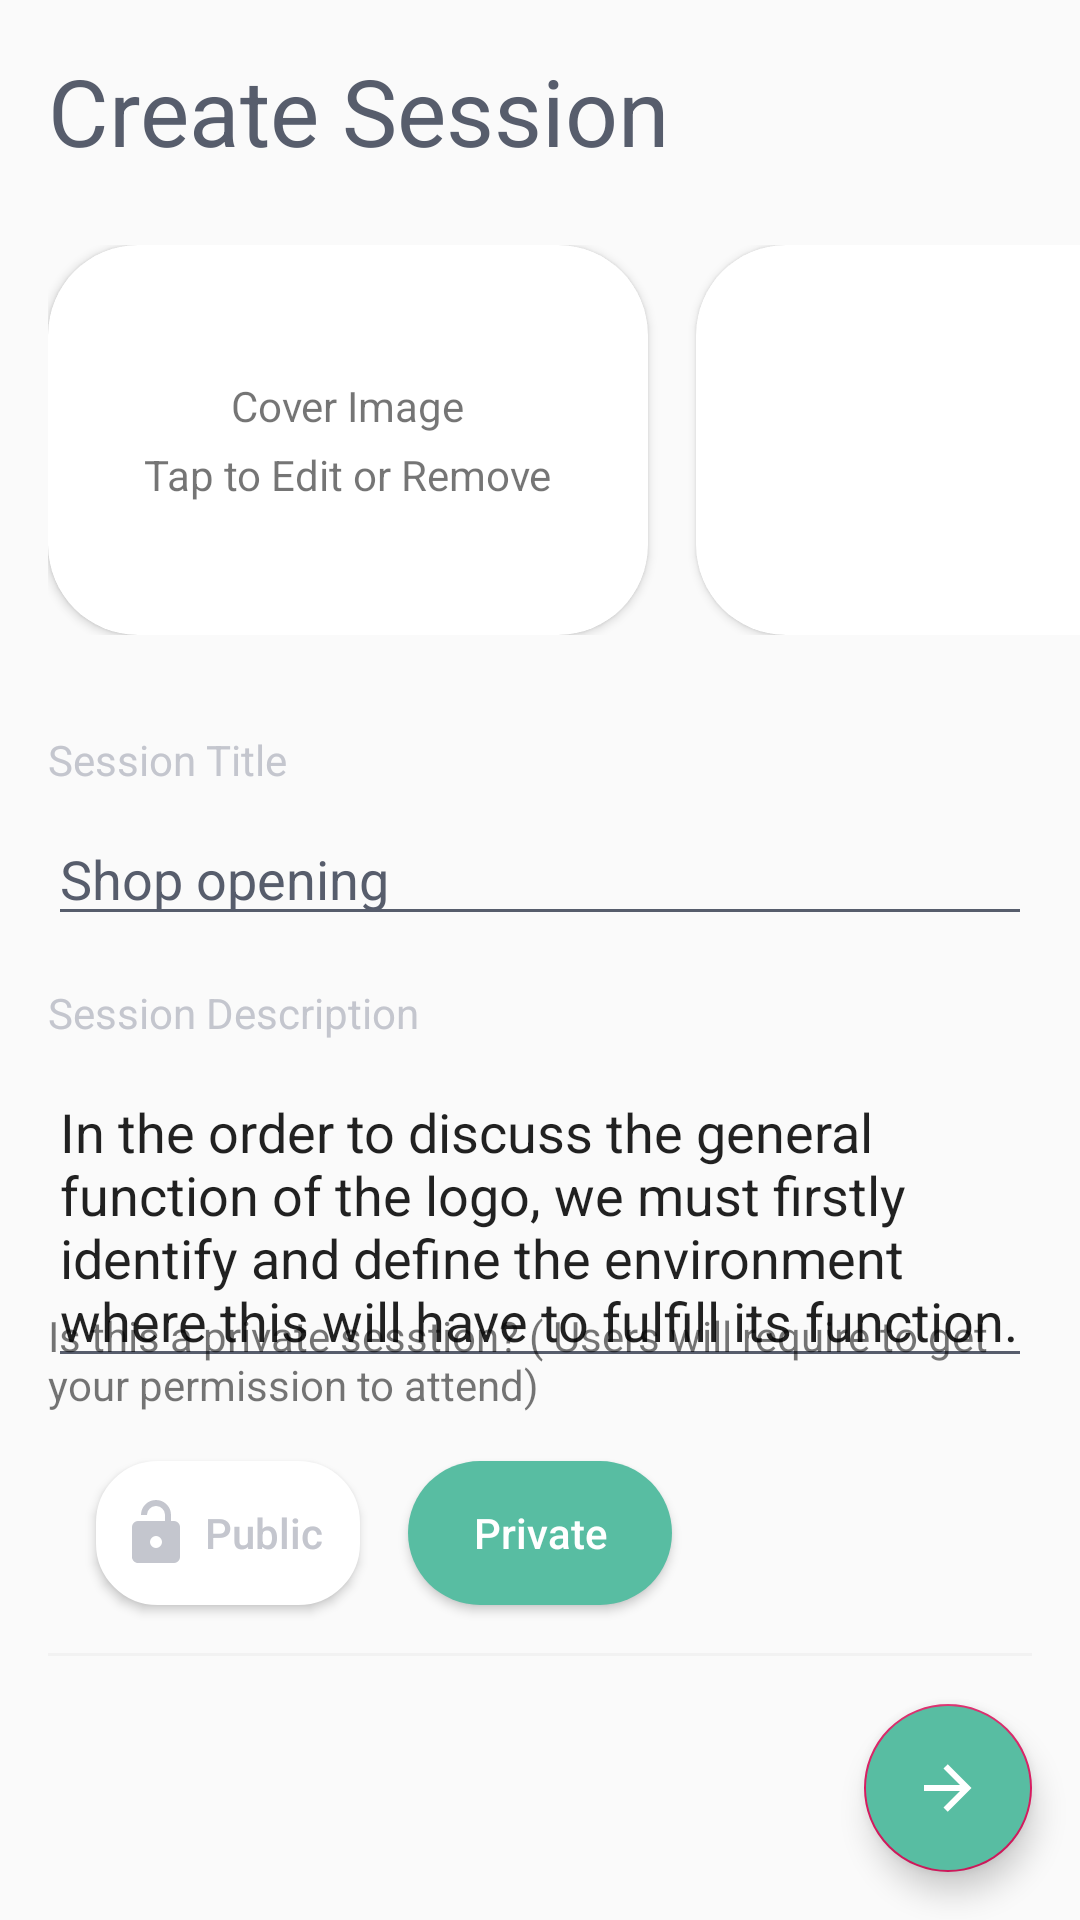

Icons on this 1080×1920 Android screen, each with the point to tap as point (x, y):
arrow right: point (948, 1788)
